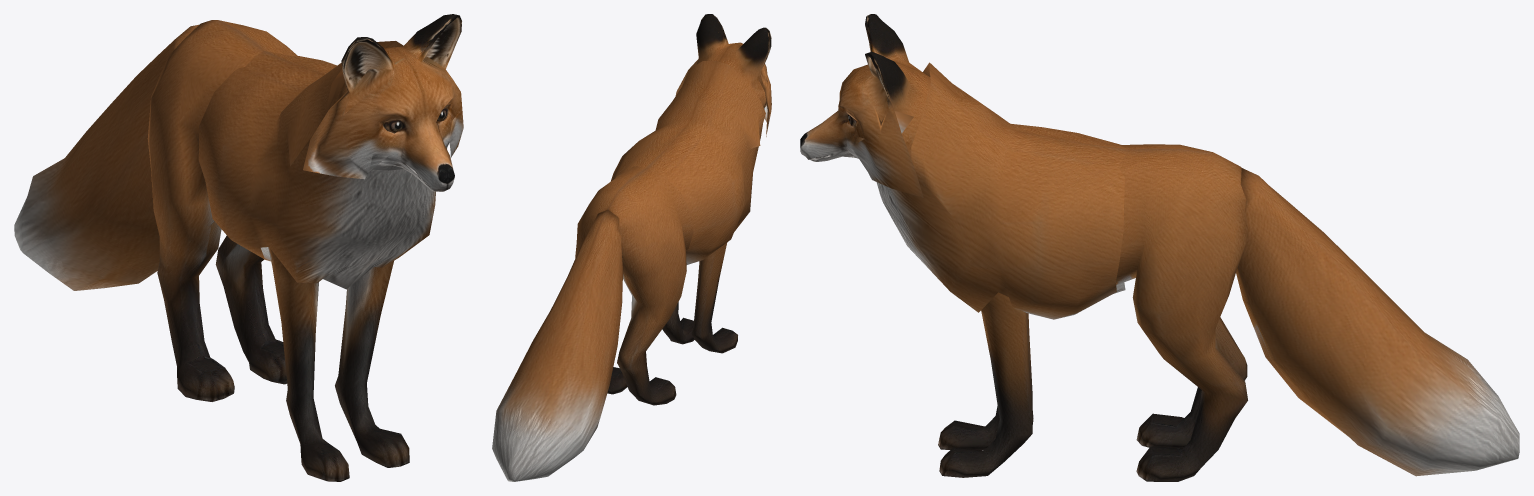
Rendered from japan.fbx.
3 renders of one model, left to right at view 1: azimuth 30°, elevation 25°; view 2: azimuth 150°, elevation 25°; view 3: azimuth 270°, elevation 25°, orthographic. The views are drawn at different scales.
Visible parts, largest first — view 1: Mesh_0; view 2: Mesh_0; view 3: Mesh_0.
Part boxes in pixels (x1,y1,x2,y2): Mesh_0: (14,14,463,481); Mesh_0: (492,14,771,481); Mesh_0: (800,14,1519,481).
Bounding box in the file's own units: 26.76 × 66.41 × 100.
Materials: 1 (1 with a texture image).
